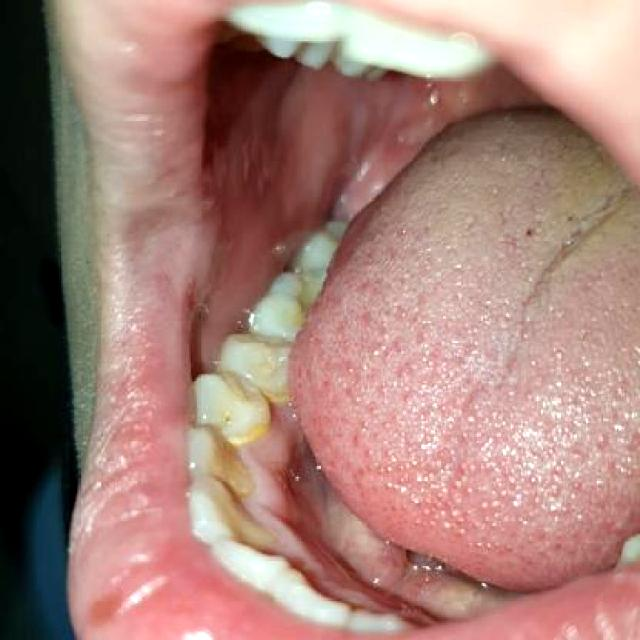Plaque: (221, 421, 283, 489), (262, 396, 294, 427)
